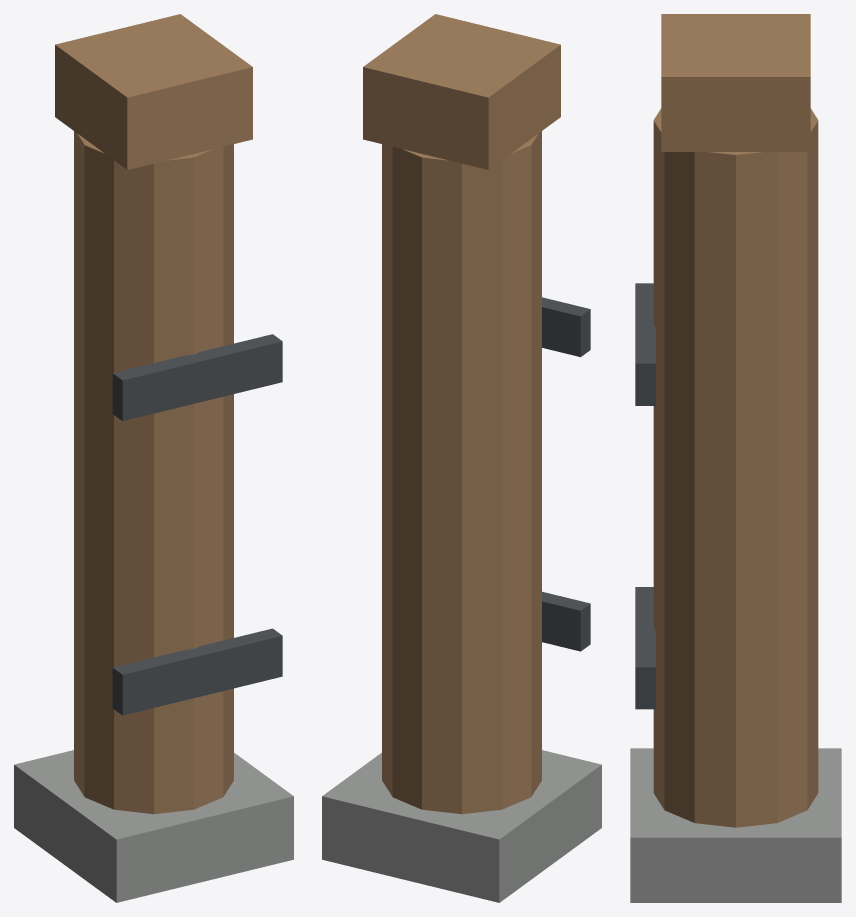
Rendered from SM_AET_Palisade_Post_A01.fbx.
The picture shows the model from 3 angles, left to right: view 1: azimuth 30°, elevation 25°; view 2: azimuth 150°, elevation 25°; view 3: azimuth 270°, elevation 25°; orthographic projection. The views are drawn at different scales.
Parts seen in each view (by area): view 1: Post_Timber_Heavy, StoneFooting_Post, Post_Cap_Point, IronBand_Upper, IronBand_Lower; view 2: Post_Timber_Heavy, StoneFooting_Post, Post_Cap_Point, IronBand_Lower, IronBand_Upper; view 3: Post_Timber_Heavy, StoneFooting_Post, Post_Cap_Point, IronBand_Lower, IronBand_Upper.
Part boxes in pixels (x1,y1,x2,y2): Post_Timber_Heavy: [74, 131, 233, 814]; StoneFooting_Post: [14, 750, 293, 902]; Post_Cap_Point: [55, 14, 252, 169]; IronBand_Upper: [112, 334, 282, 420]; IronBand_Lower: [112, 628, 282, 715]; Post_Timber_Heavy: [382, 131, 541, 814]; StoneFooting_Post: [322, 750, 601, 902]; Post_Cap_Point: [363, 14, 560, 169]; IronBand_Lower: [542, 591, 590, 651]; IronBand_Upper: [542, 297, 590, 357]; Post_Timber_Heavy: [653, 108, 818, 827]; StoneFooting_Post: [630, 748, 841, 902]; Post_Cap_Point: [661, 14, 810, 151]; IronBand_Lower: [635, 587, 655, 709]; IronBand_Upper: [635, 283, 655, 405].
Size of what is drawn, in the model's own units: 8200 by 8200 by 34800.
